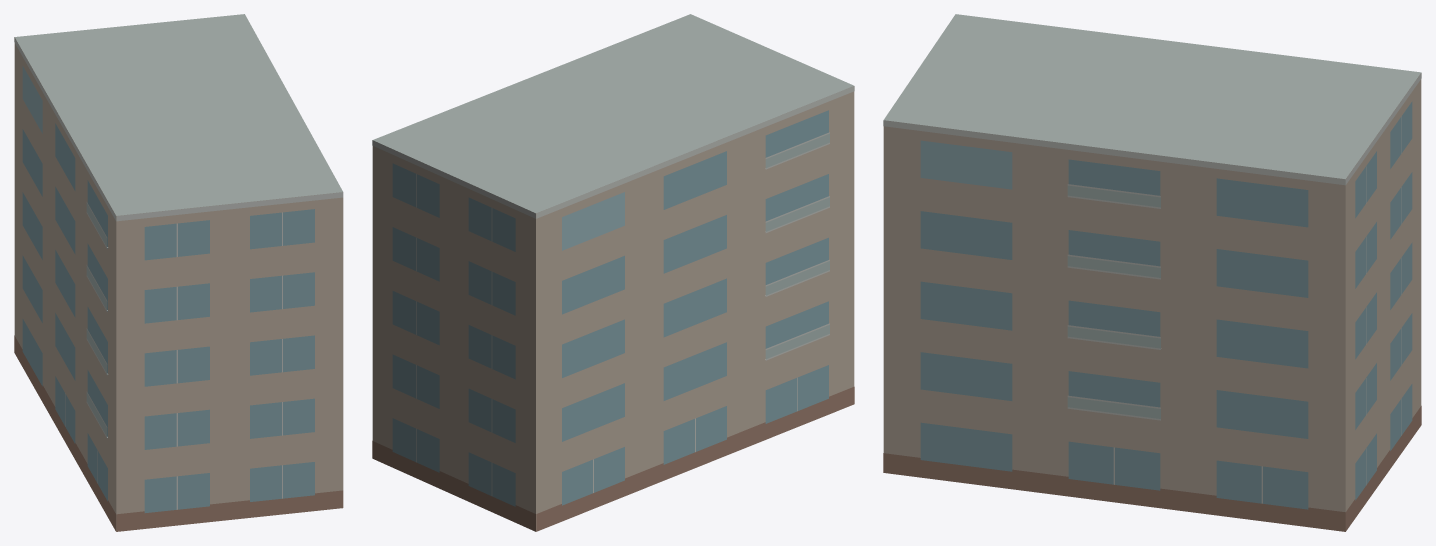
The model's file is survey-upis-32632638.glb.
The picture shows the model from 3 angles, left to right: view 1: azimuth 30°, elevation 25°; view 2: azimuth 150°, elevation 25°; view 3: azimuth 270°, elevation 25°; orthographic projection. The views are drawn at different scales.
Visible parts, largest first — view 1: survey-upis-32632638.tmp; view 2: survey-upis-32632638.tmp; view 3: survey-upis-32632638.tmp.
Boxes of the visible parts, x1,y1,x2,y2 form: survey-upis-32632638.tmp: [14, 14, 343, 531]; survey-upis-32632638.tmp: [372, 14, 854, 531]; survey-upis-32632638.tmp: [883, 14, 1421, 531].
Size of the model in its own units: 14.18 by 14.1 by 19.51.
